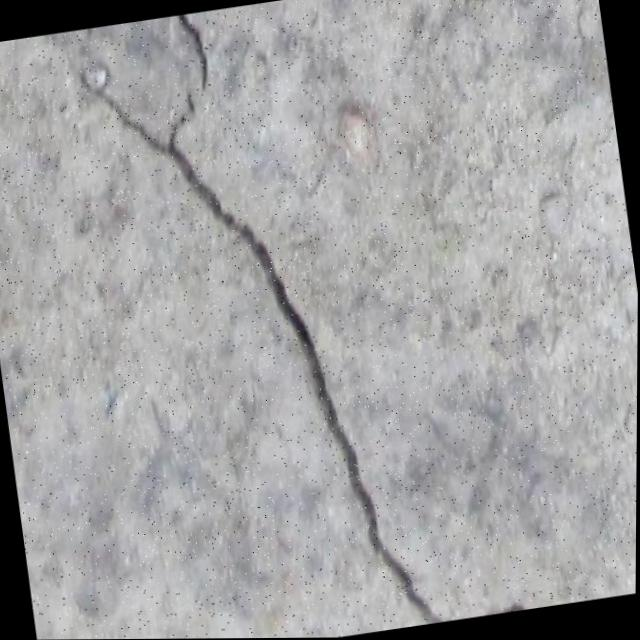Crack: (68, 0, 469, 640)
